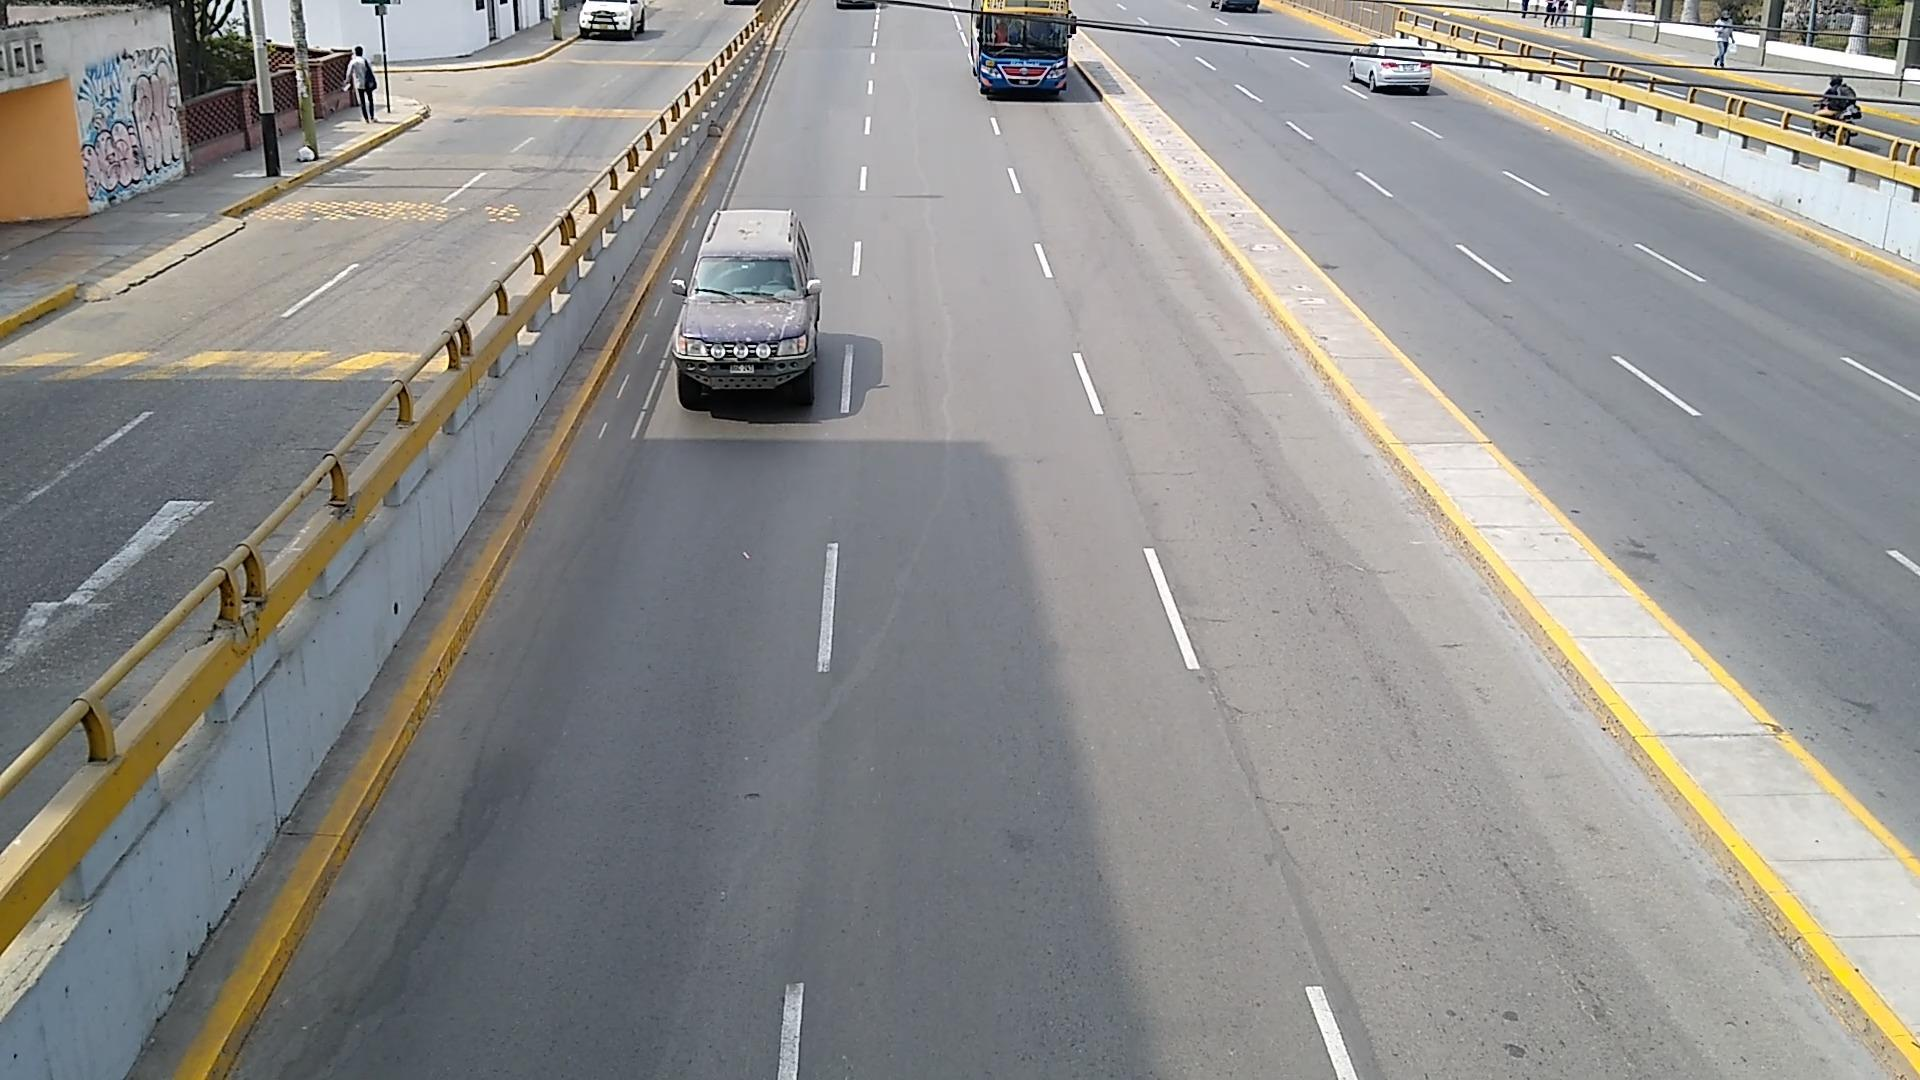bus: (972, 0, 1072, 98)
car: (675, 210, 822, 409), (1346, 37, 1432, 94), (578, 0, 645, 37)
